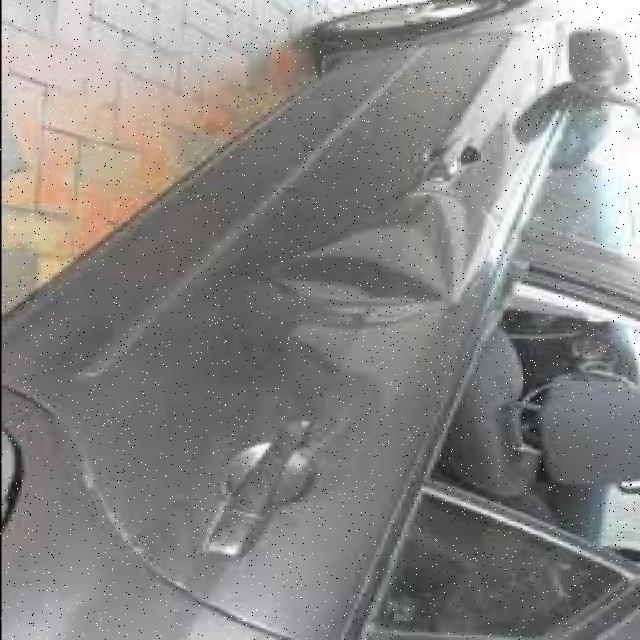damage: (254, 212, 457, 328)
